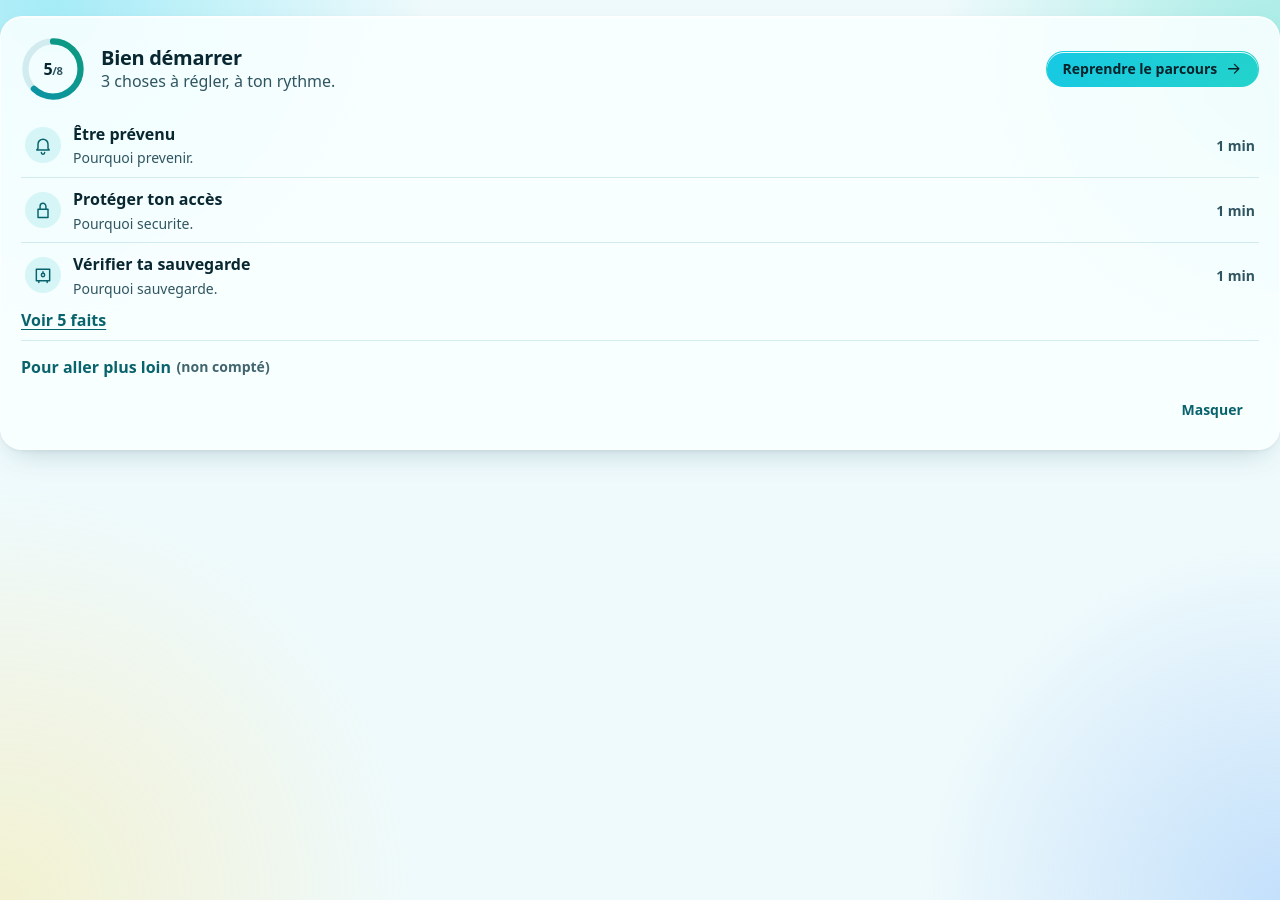
Test case: Bien démarrer › shows the ring, the next three items with direct links, and the rest on demand
The width and height of the screenshot is (1280, 900).
Expected: the element with class "ring-value" reads "5/8", [43,57,63,81]
Click the button "Voir 5 faits". click: (64, 320)
box: [21,305,106,335]
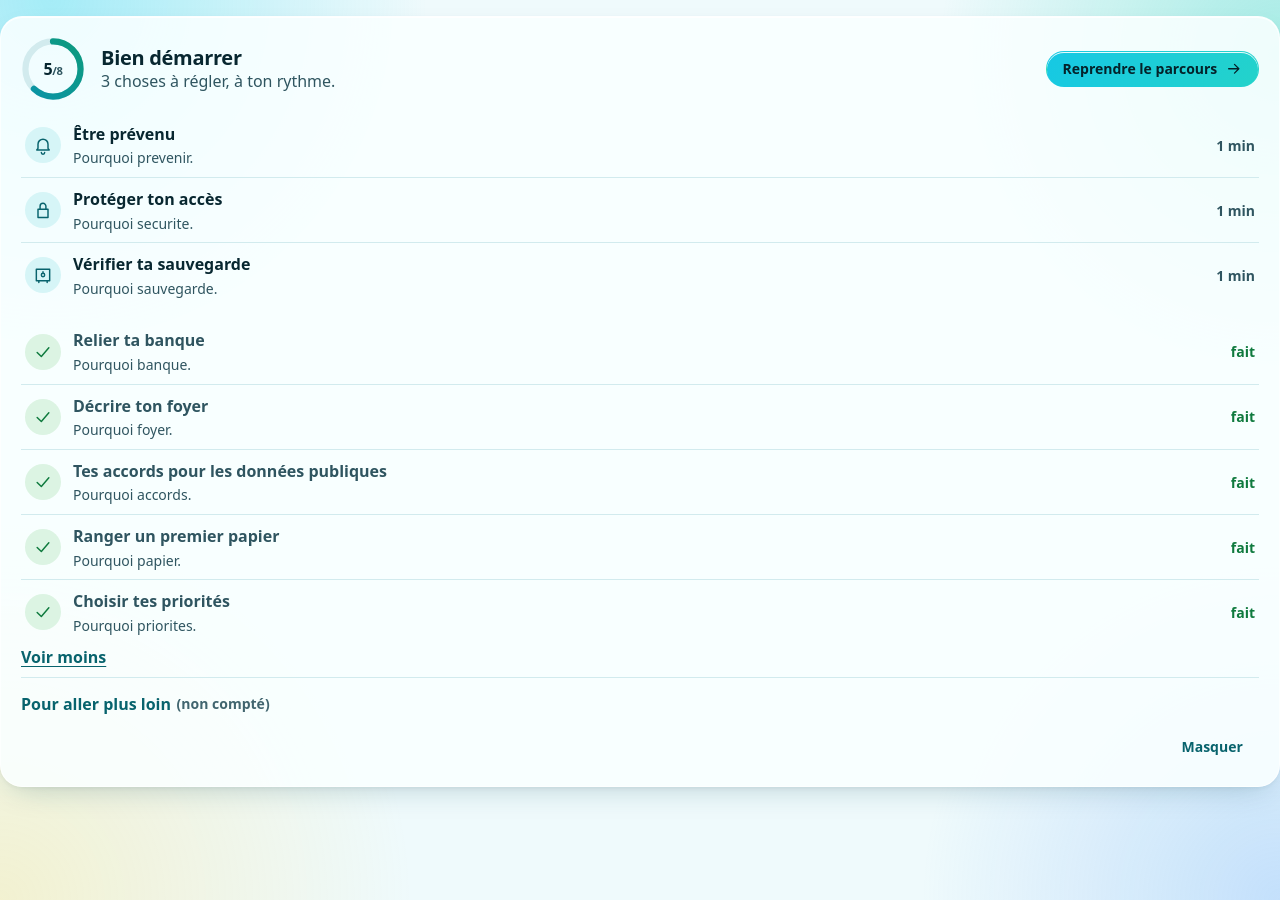
Expected: the number of list items with class "is-done" is 5, [21,320,1259,384]; [21,384,1259,449]; [21,449,1259,514]; [21,514,1259,579]; [21,579,1259,644]
